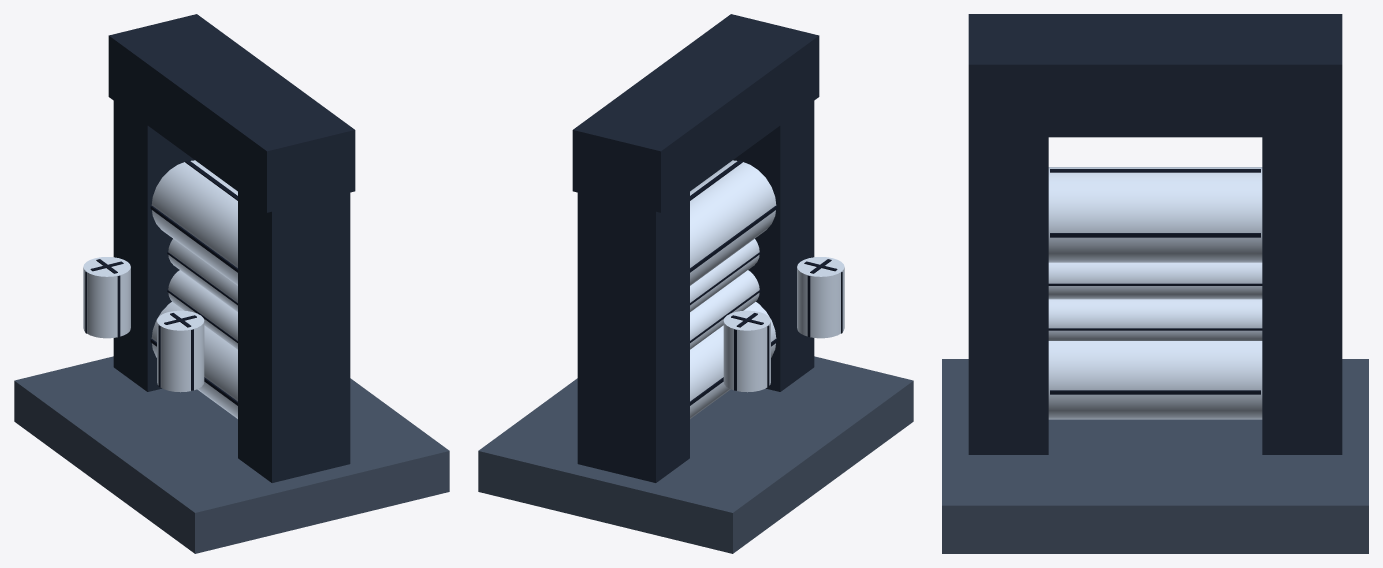
File: roughing_mill.glb
The picture shows the model from 3 angles, left to right: view 1: azimuth 30°, elevation 25°; view 2: azimuth 150°, elevation 25°; view 3: azimuth 270°, elevation 25°; orthographic projection. The views are drawn at different scales.
Visible parts, largest first — view 1: RoughingMill, RougherTopBackupRoll, RougherEdgerLeft, RougherEdgerRight, RougherBotBackupRoll, RougherBotWorkRoll, RougherTopWorkRoll; view 2: RoughingMill, RougherTopBackupRoll, RougherEdgerLeft, RougherEdgerRight, RougherBotBackupRoll, RougherBotWorkRoll, RougherTopWorkRoll; view 3: RoughingMill, RougherTopBackupRoll, RougherBotBackupRoll, RougherBotWorkRoll, RougherTopWorkRoll.
Part boxes in pixels (x1=…): RoughingMill: x1=14, y1=14, x2=449, y2=553; RougherTopBackupRoll: x1=150, y1=160, x2=237, y2=285; RougherEdgerLeft: x1=157, y1=310, x2=204, y2=392; RougherEdgerRight: x1=83, y1=257, x2=130, y2=338; RougherBotBackupRoll: x1=150, y1=302, x2=237, y2=418; RougherBotWorkRoll: x1=167, y1=270, x2=237, y2=349; RougherTopWorkRoll: x1=167, y1=239, x2=237, y2=311; RoughingMill: x1=478, y1=14, x2=913, y2=553; RougherTopBackupRoll: x1=690, y1=160, x2=777, y2=285; RougherEdgerLeft: x1=797, y1=257, x2=844, y2=338; RougherEdgerRight: x1=723, y1=310, x2=770, y2=392; RougherBotBackupRoll: x1=690, y1=302, x2=777, y2=418; RougherBotWorkRoll: x1=690, y1=270, x2=760, y2=349; RougherTopWorkRoll: x1=690, y1=239, x2=760, y2=311; RoughingMill: x1=942, y1=14, x2=1368, y2=553; RougherTopBackupRoll: x1=1048, y1=167, x2=1262, y2=262; RougherBotBackupRoll: x1=1048, y1=341, x2=1262, y2=419; RougherBotWorkRoll: x1=1048, y1=299, x2=1262, y2=340; RougherTopWorkRoll: x1=1048, y1=262, x2=1262, y2=299.
Bounding box in the file's own units: 5.2 × 7.3 × 6.4.
